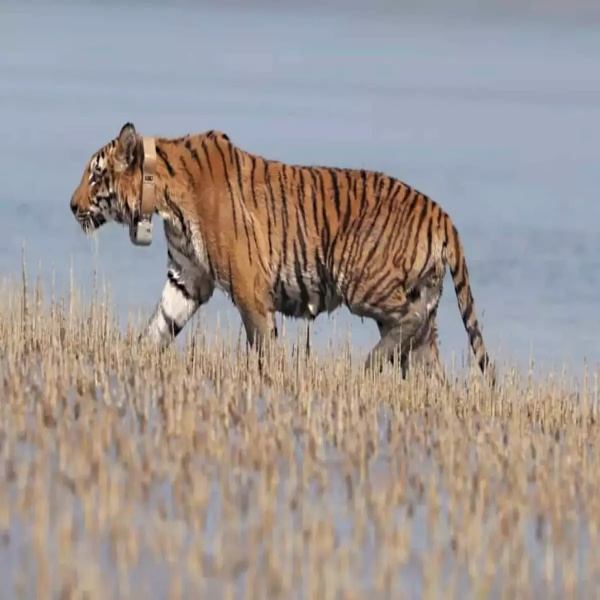Tiger: (65, 120, 497, 395)
